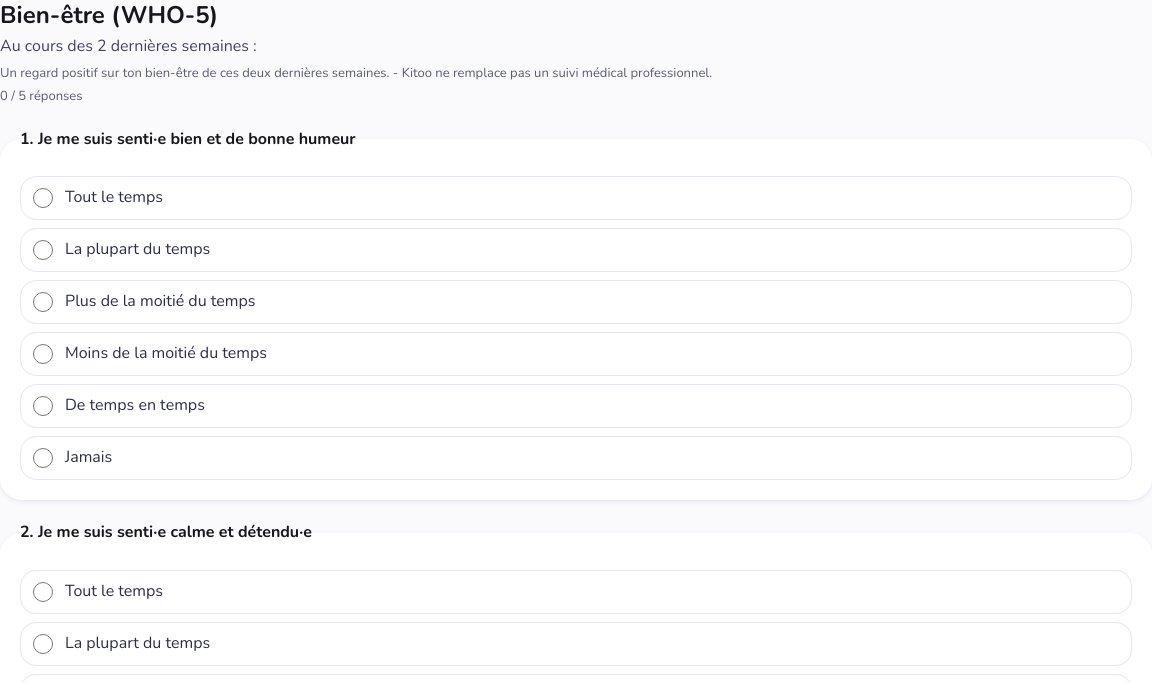
Test: AssessmentRunner - accessibilité & soumission › affiche le résultat renvoyé par le serveur
Click the 1st radio button labelled "Tout le temps" at (43, 198), box [33, 188, 53, 208]
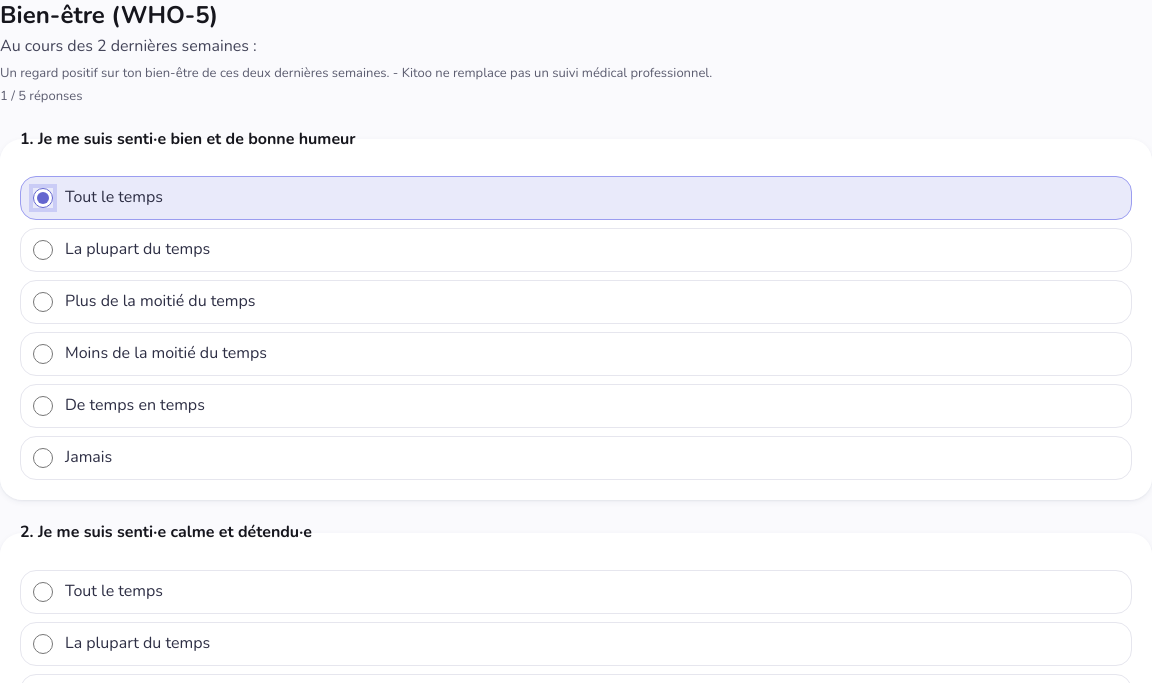
Click the radio button labelled "Tout le temps" below "Je me suis senti·e calme et détendu·e" at (43, 592), box [33, 582, 53, 602]
(page scrolled)
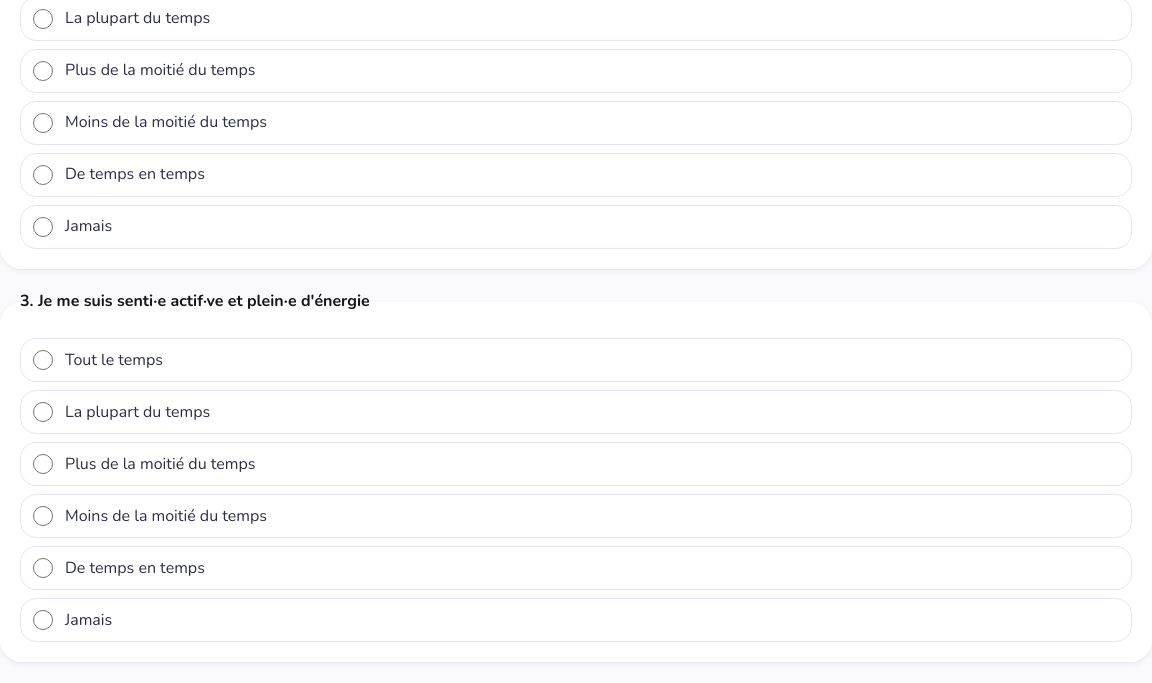
Click the radio button labelled "Tout le temps" at (43, 360), box [33, 350, 53, 370]
(page scrolled)
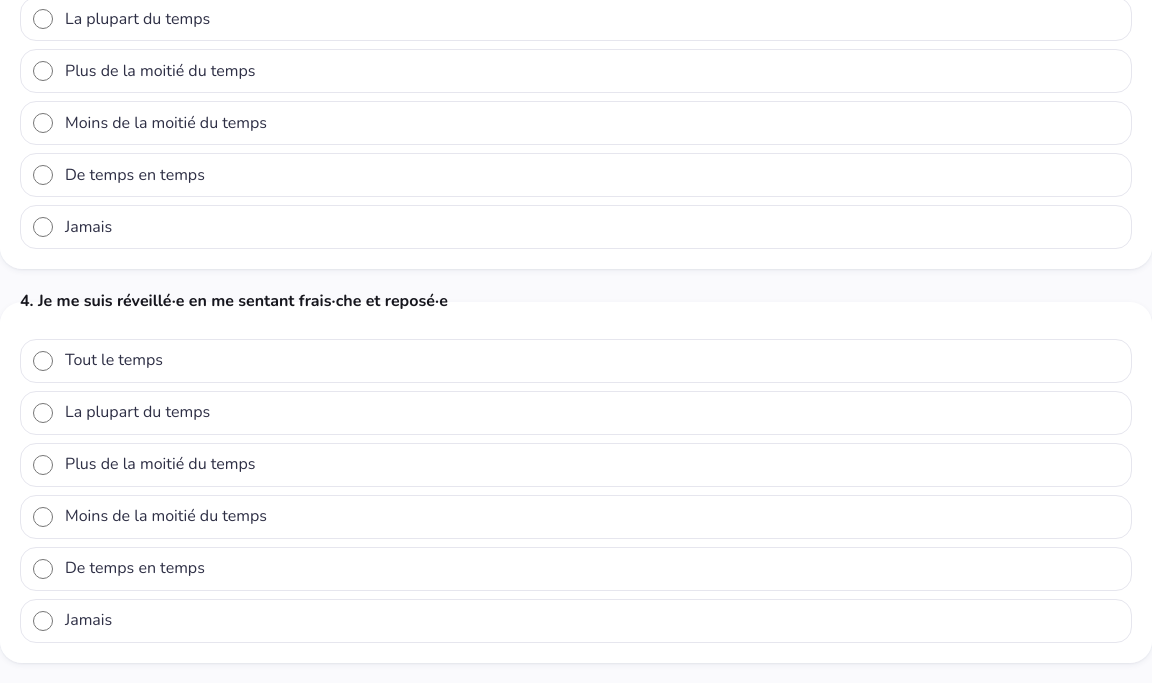
Click the radio button labelled "Tout le temps" at (43, 361), box [33, 351, 53, 371]
(page scrolled)
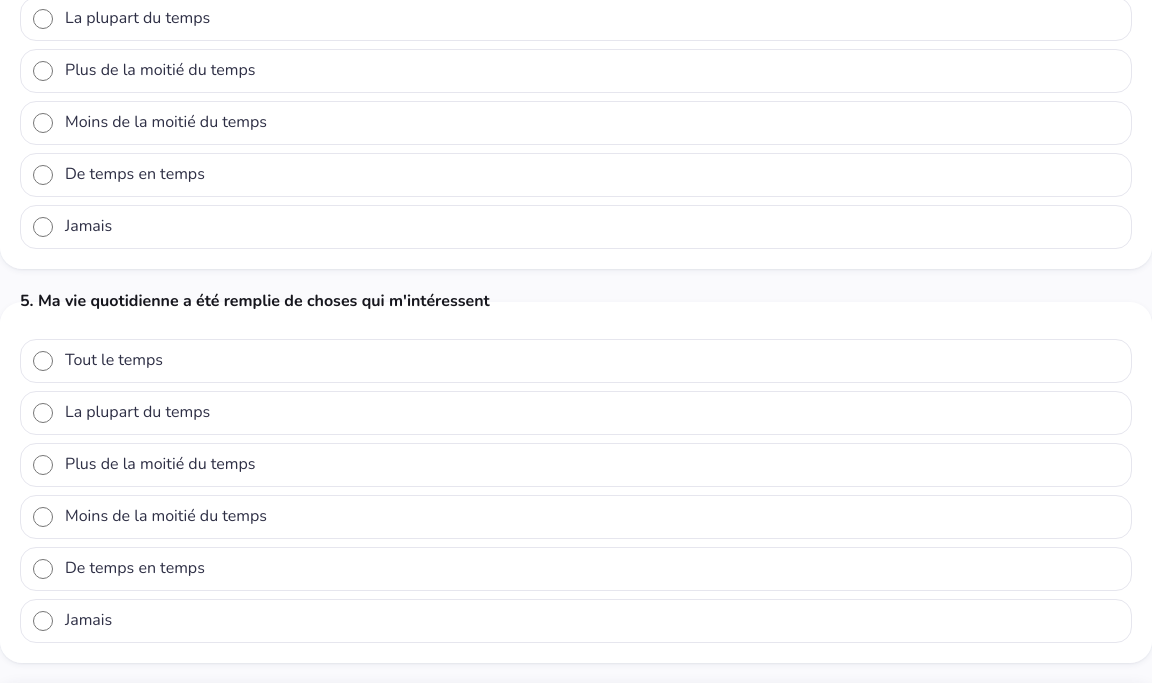
Click the radio button labelled "Tout le temps" at (43, 361), box [33, 351, 53, 371]
(page scrolled)
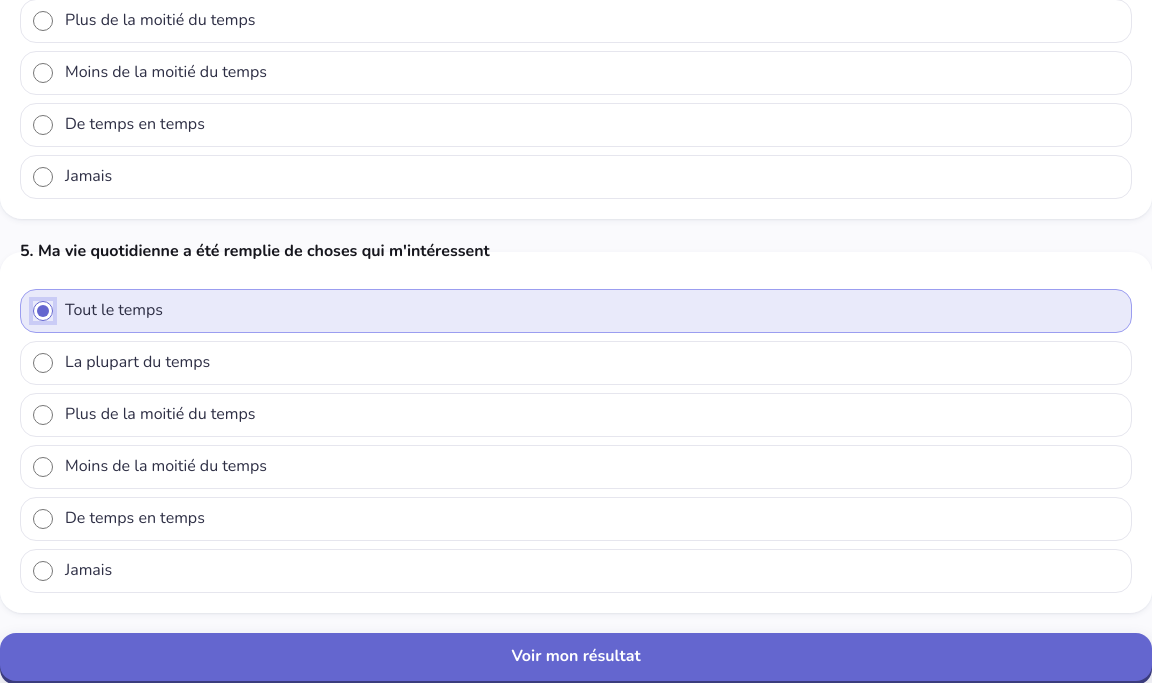
Click the button "Voir mon résultat" at (576, 657), box [0, 633, 1151, 681]
(page scrolled)
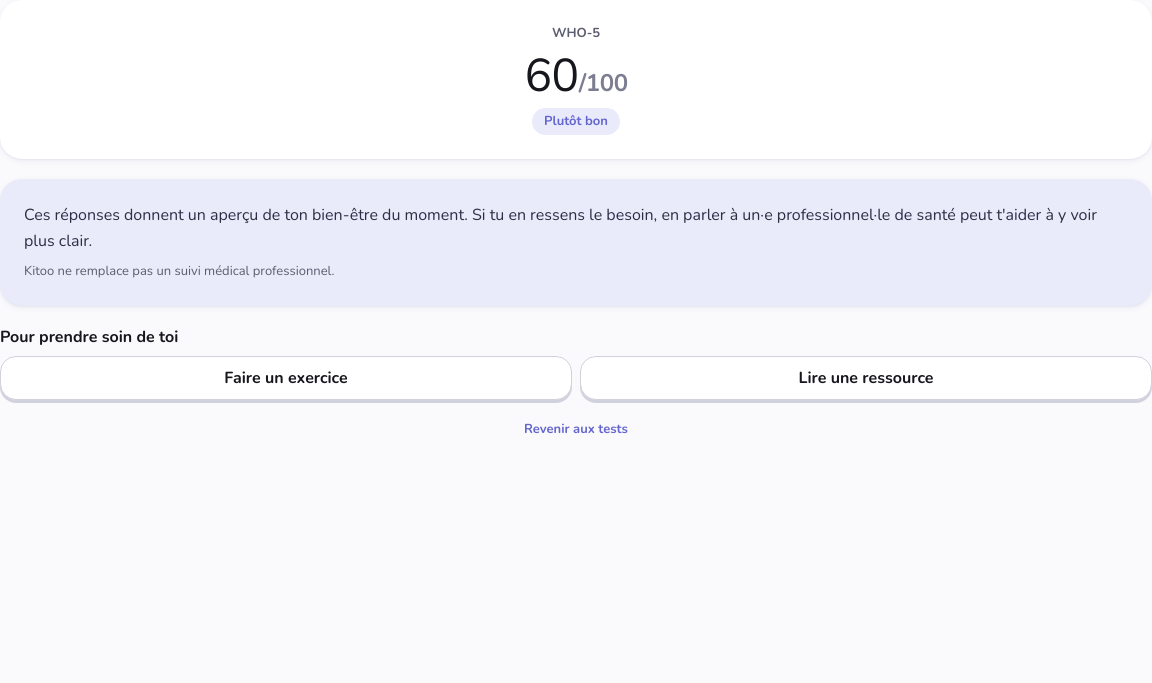
Expected: the text "60" is shown, [524, 44, 579, 106]
